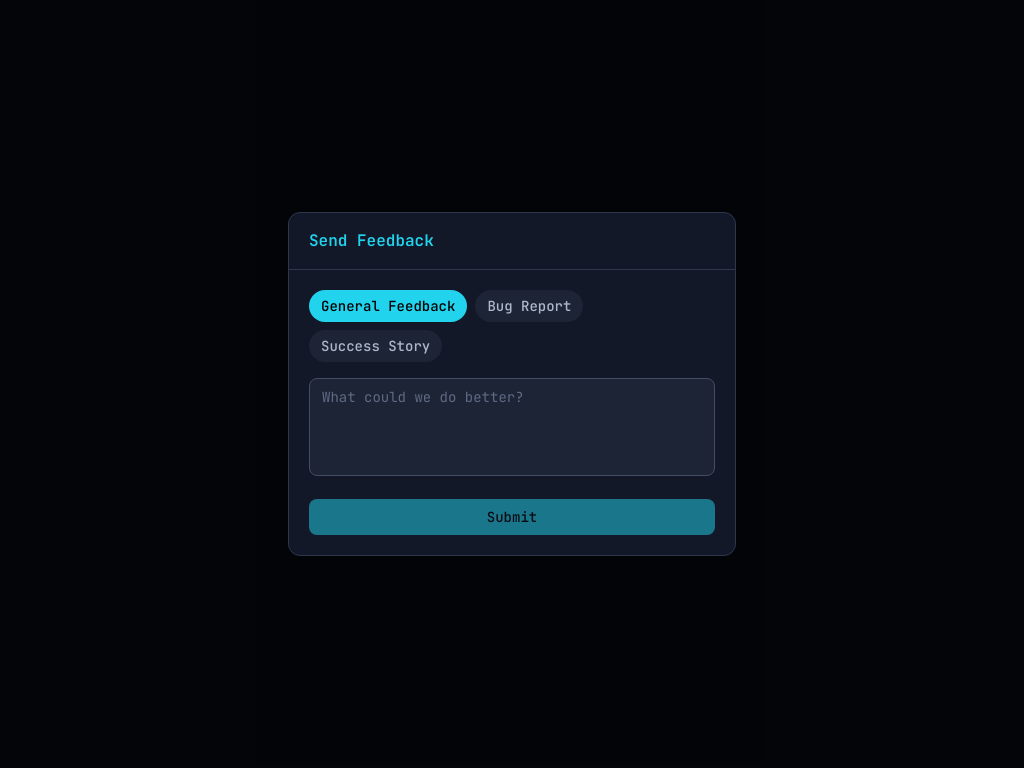
FeedbackModal › enables submit when textarea has content
Type "Great tool!" into the text box.
click(512, 427); type("Great tool!")  # box [309,378,715,476]
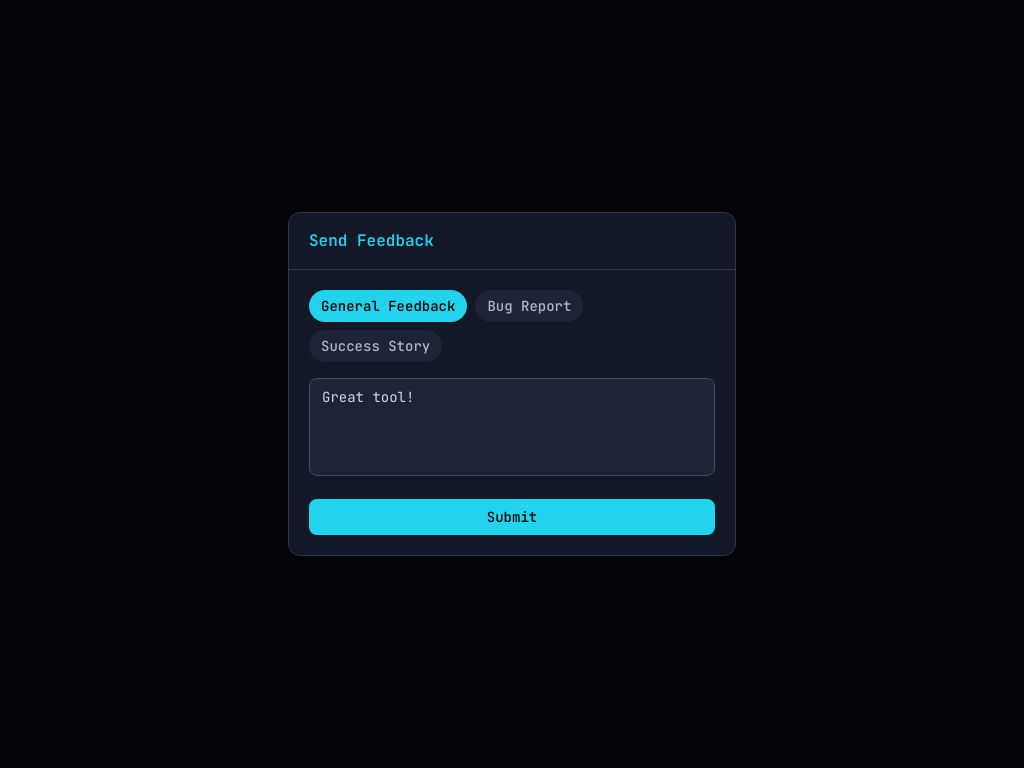
Expected: the button "Submit" is enabled, [309,499,715,535]
